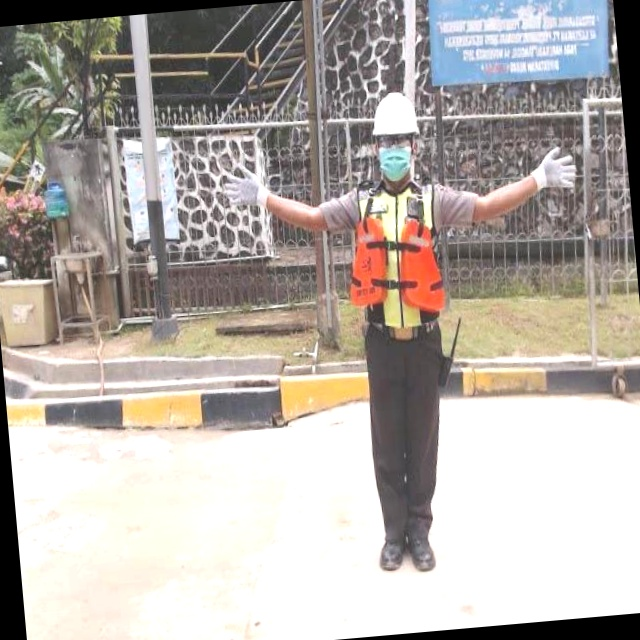boots: (254, 532, 286, 580), (225, 533, 254, 583)
gloves: (43, 159, 92, 230), (363, 144, 411, 213)
helmet: (205, 101, 253, 145)
vest: (191, 189, 291, 337)
